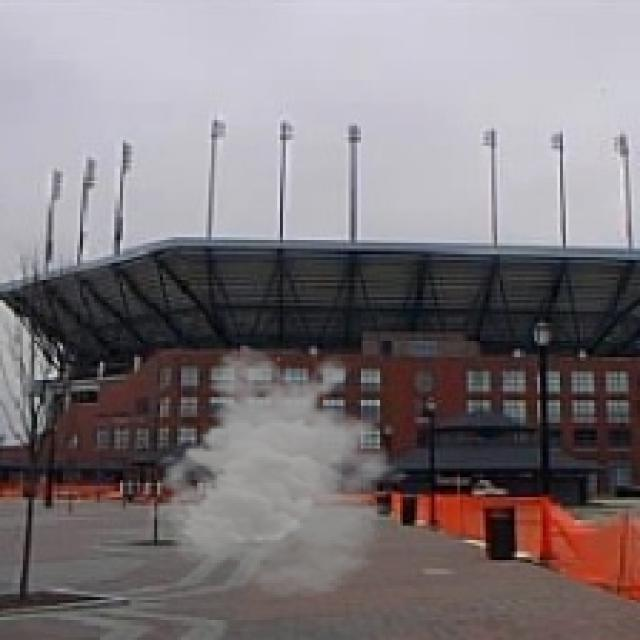Smoke: (146, 346, 420, 600)
